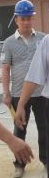boots: (13, 166, 24, 178), (42, 172, 49, 178)
hard-hat: (0, 3, 24, 37)
